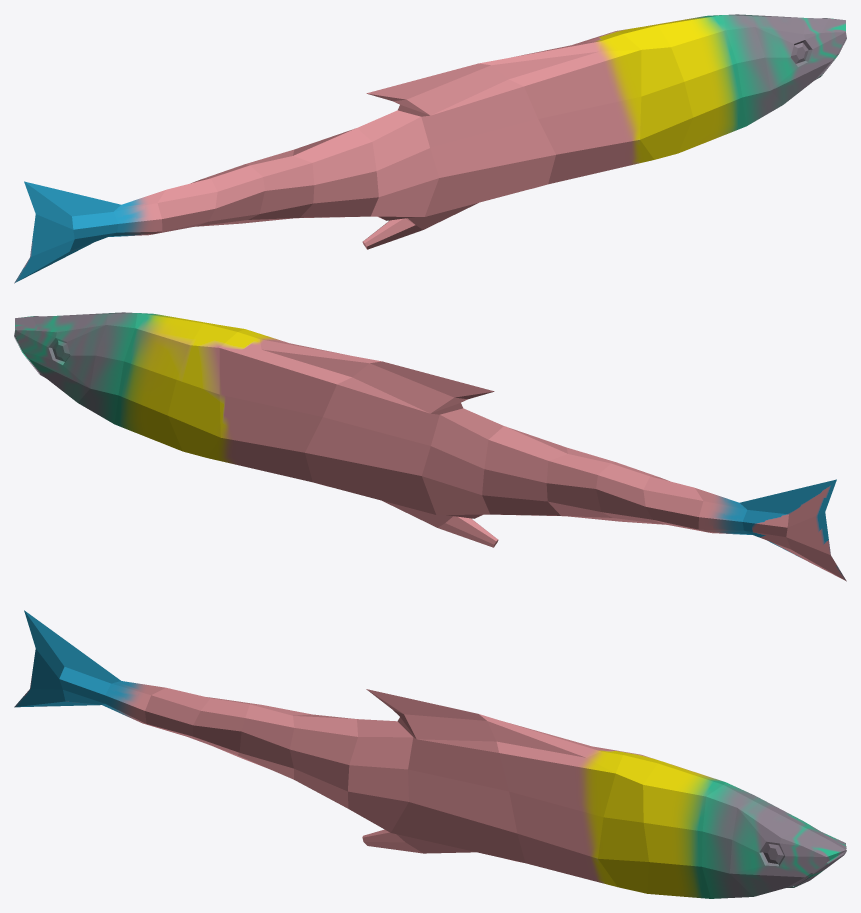
File: Thalassoma_lucasanum.glb
3 renders of one model, top to bottom at view 1: azimuth 30°, elevation 25°; view 2: azimuth 150°, elevation 25°; view 3: azimuth 330°, elevation 25°, orthographic.
Visible parts, largest first — view 1: FishV3; view 2: FishV3; view 3: FishV3.
Boxes of the visible parts, <box> form: FishV3: <box>14,14,846,283</box>; FishV3: <box>14,312,846,581</box>; FishV3: <box>14,610,846,898</box>.
Size of the model in its own units: 0.868 by 0.1587 by 0.0798.
Materials: 1 (1 with a texture image).
